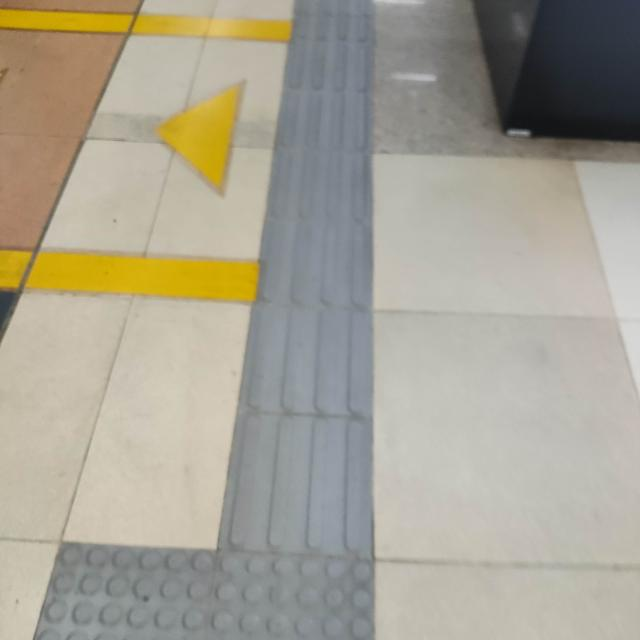lurus: (234, 9, 387, 570)
